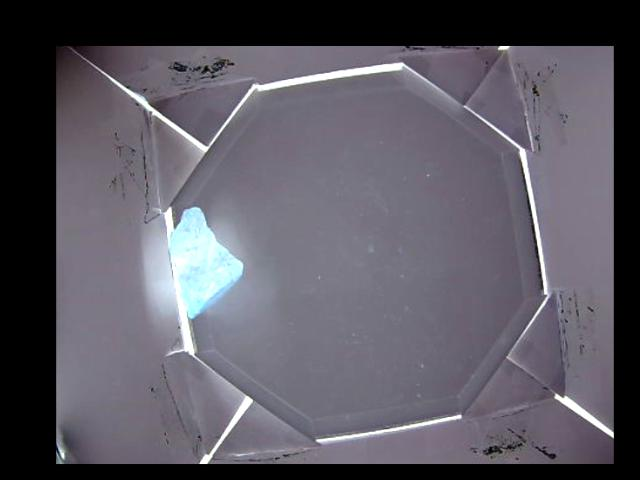Brisk: (166, 207, 240, 318)
